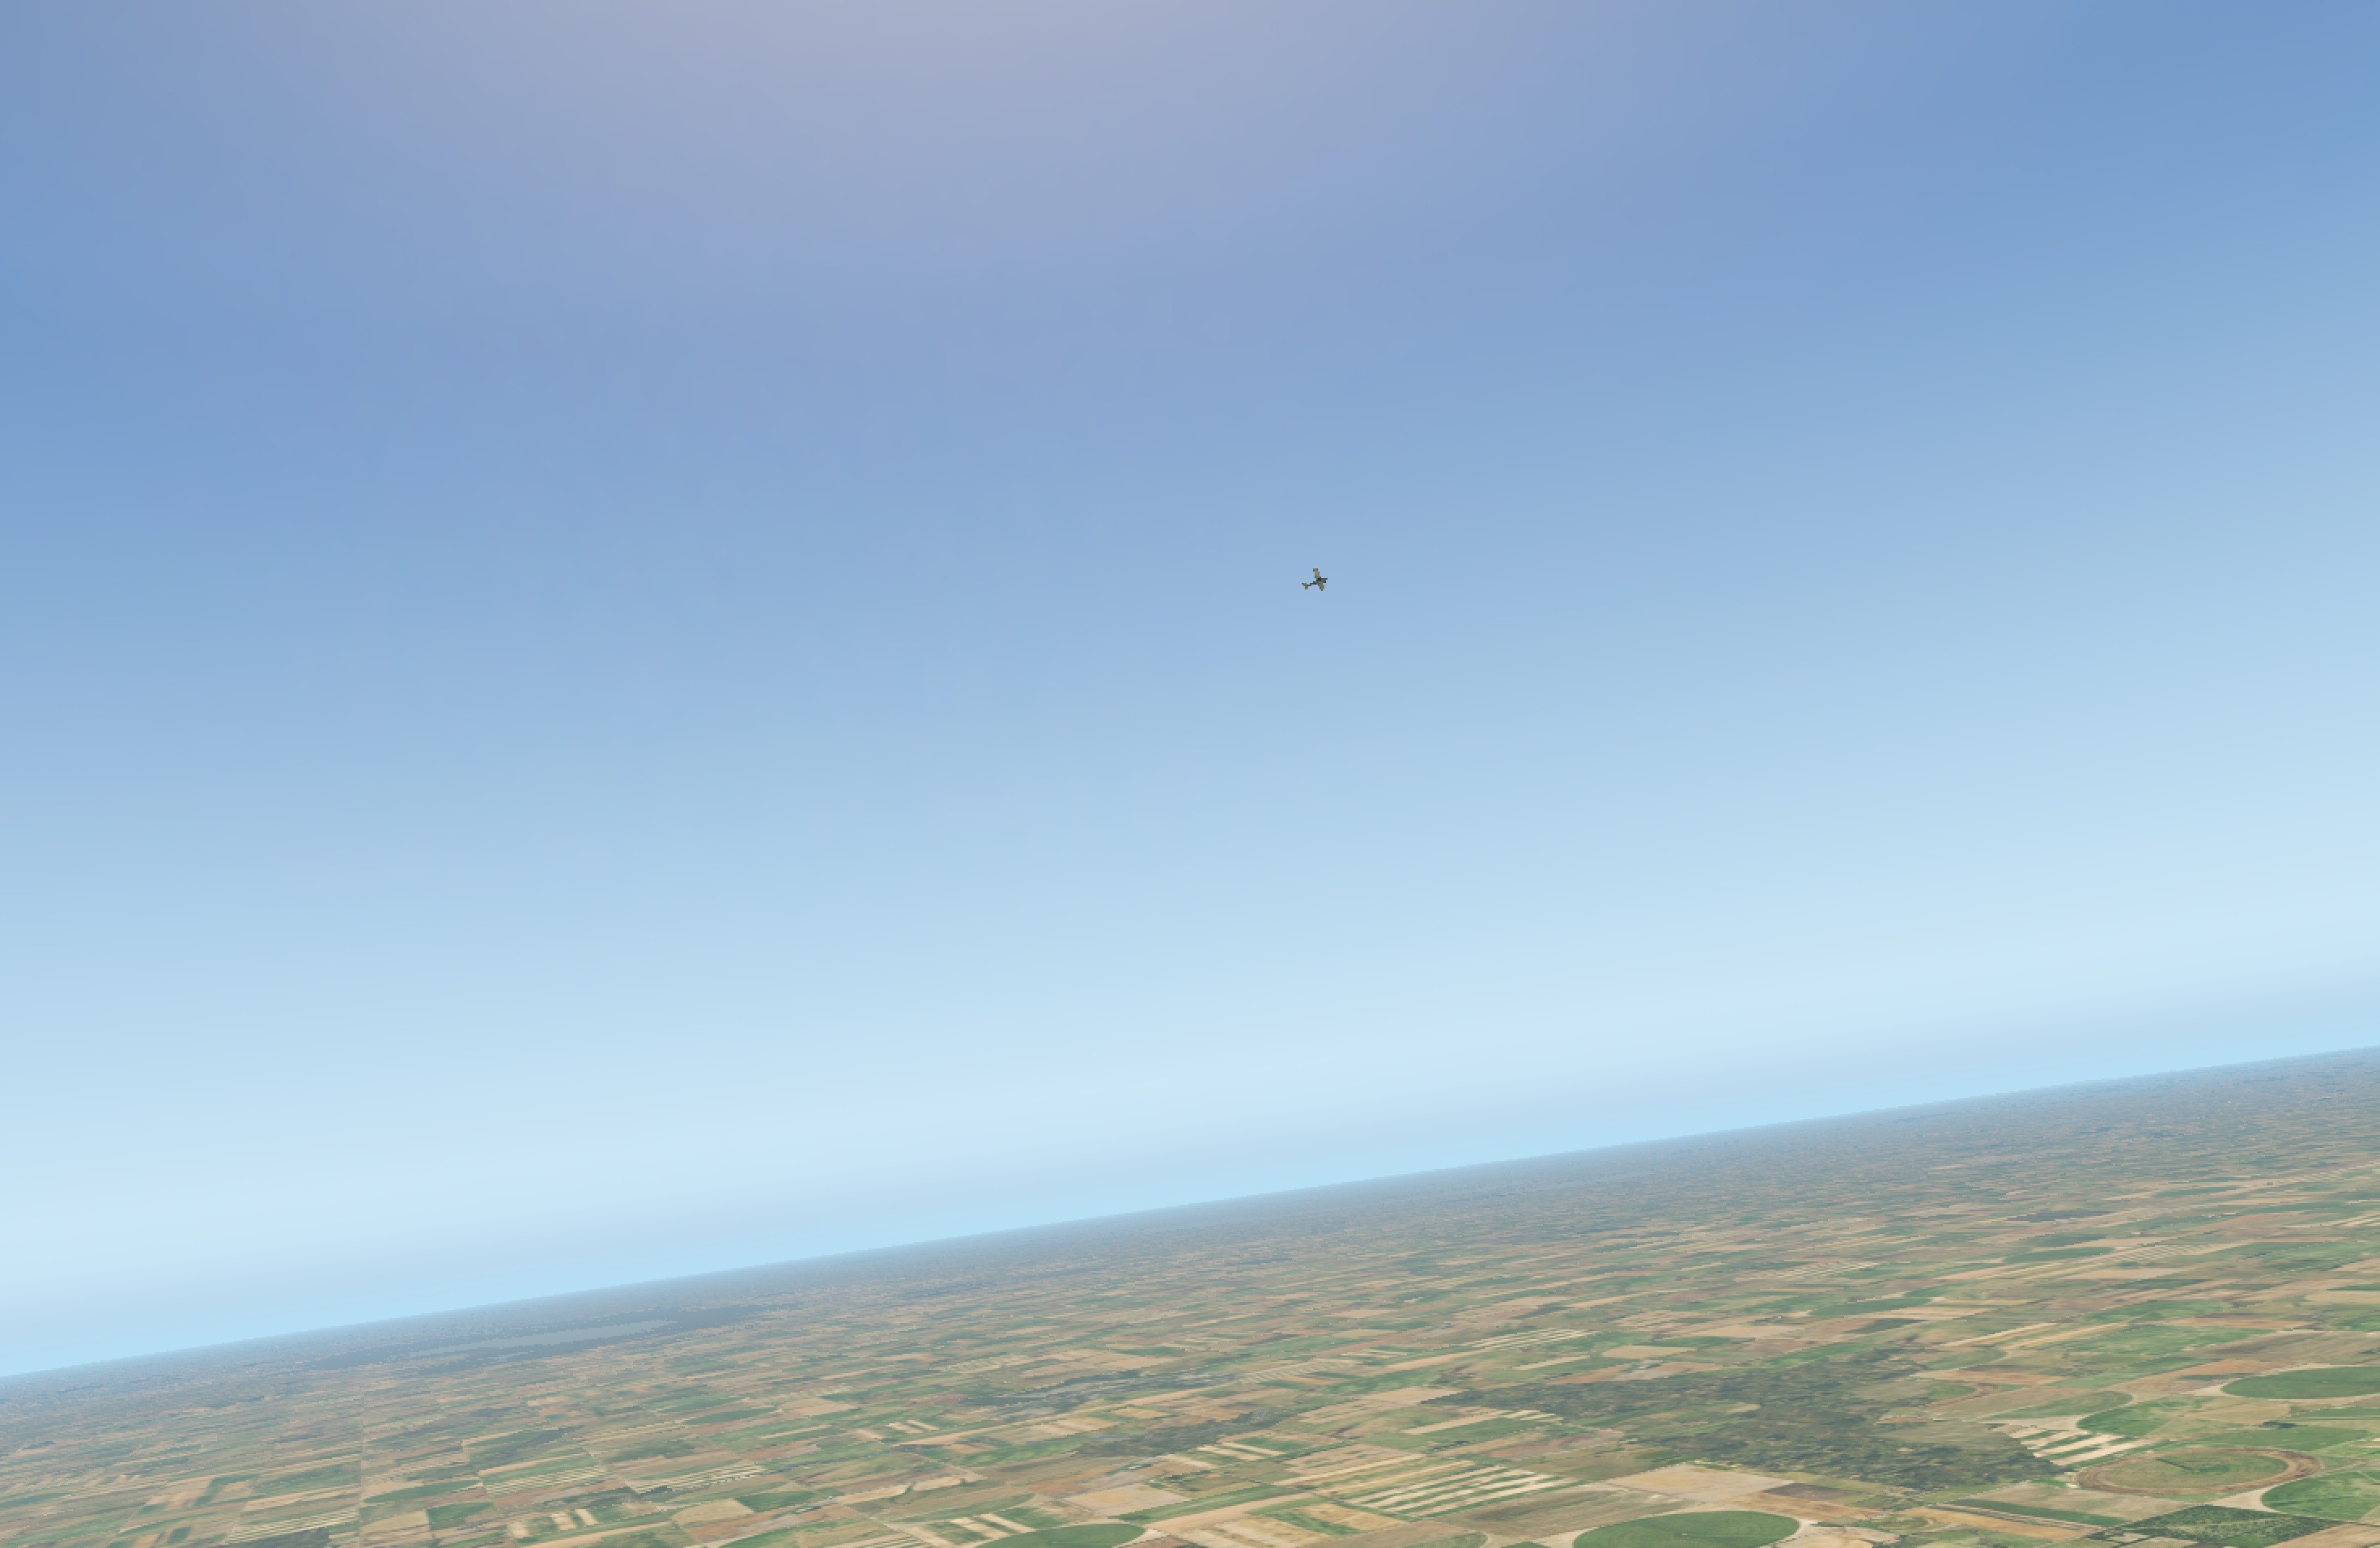aircraft: (1308, 576, 1334, 585)
